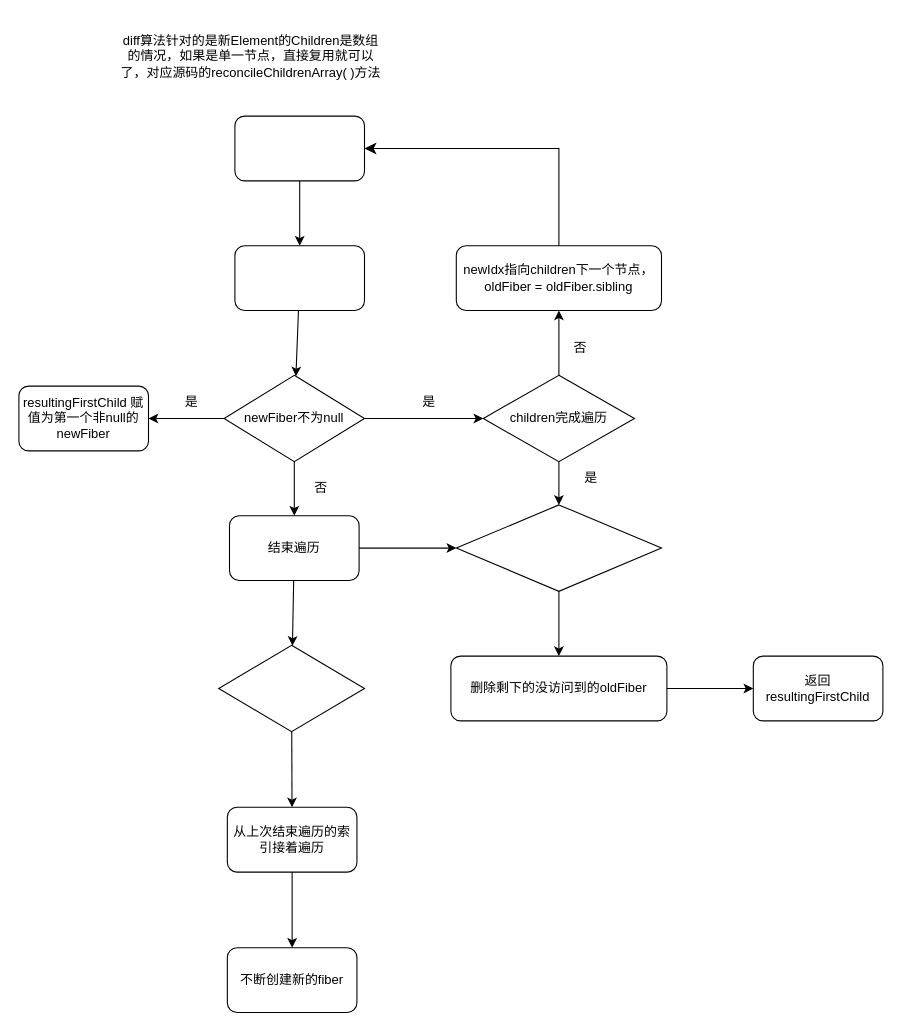
Some shapes in this 902 by 1031 pixel diagram are drawn without their labels. Each missing label, with the centre of its shape:
newIdx == children.length: the point at 558,547
oldFiber == null: the point at 291,688
调用updateSlot，视图复用oldFiber,返回newFiber: the point at 299,277
遍历new Element的children数组，与oldFiber做更新: the point at 299,148
